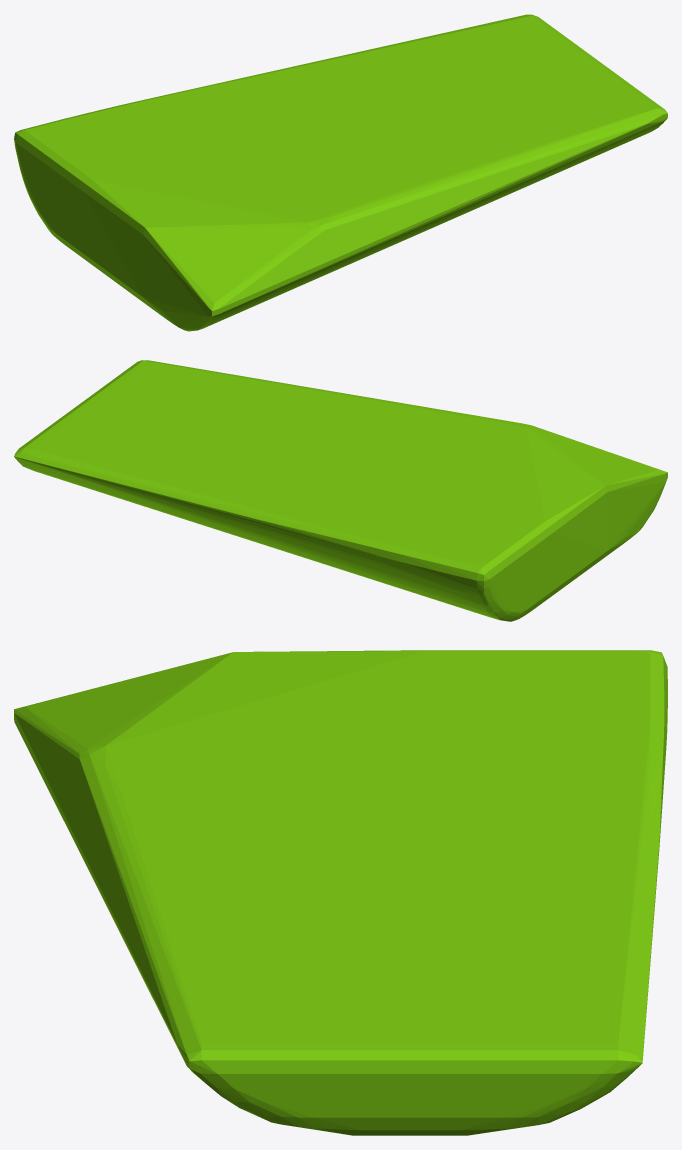
File: right_elbow_link_part_4.obj
The picture shows the model from 3 angles, top to bottom: view 1: azimuth 30°, elevation 25°; view 2: azimuth 150°, elevation 25°; view 3: azimuth 270°, elevation 25°; orthographic projection. The views are drawn at different scales.
Bounding box in the file's own units: 0.0905 × 0.0138 × 0.0605.
